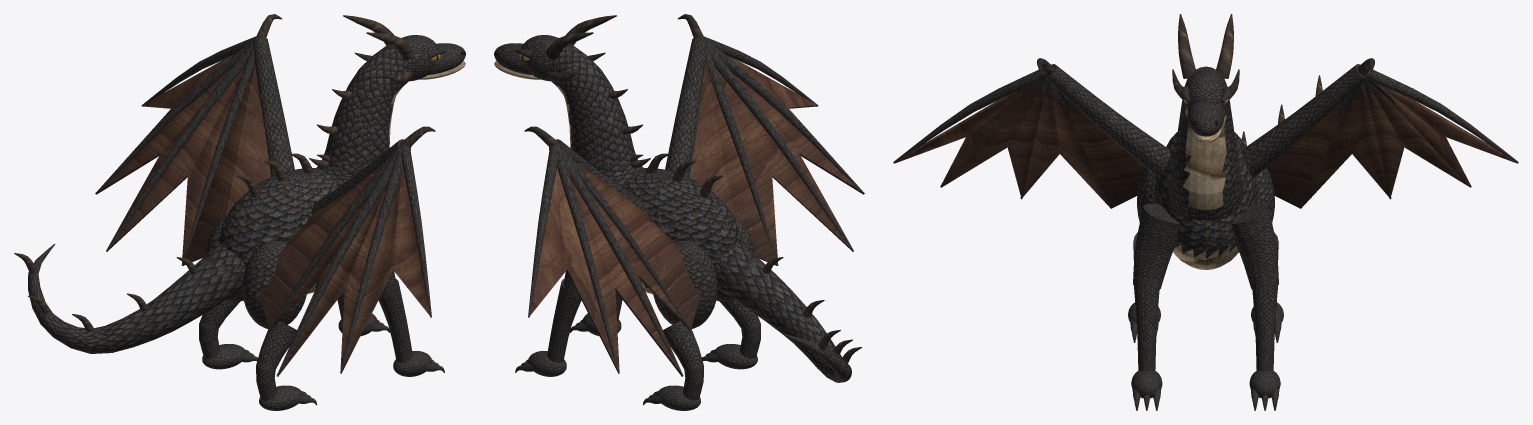
The model's file is peuchen.obj.
The picture shows the model from 3 angles, left to right: view 1: azimuth 30°, elevation 25°; view 2: azimuth 150°, elevation 25°; view 3: azimuth 270°, elevation 25°; orthographic projection. The views are drawn at different scales.
Parts seen in each view (by area): view 1: tail_body_scales, rising_neck_scales, trunk_scales, right_wing_root_web_membrane, right_wing_panel_2_membrane, left_wing_panel_0_membrane, left_wing_root_web_membrane, left_wing_panel_1_membrane, right_wing_arm_scales, right_wing_panel_1_membrane, left_haunch_scales, left_wing_finger_2_scales (+20 smaller); view 2: rising_neck_scales, tail_body_scales, trunk_scales, left_wing_root_web_membrane, left_wing_panel_2_membrane, right_wing_panel_0_membrane, right_wing_root_web_membrane, right_wing_panel_1_membrane, left_wing_arm_scales, left_wing_panel_1_membrane, right_haunch_scales, left_wing_finger_2_scales (+21 smaller); view 3: trunk_scales, rising_neck_scales, left_wing_arm_scales, right_wing_arm_scales, left_wing_panel_2_membrane, right_wing_panel_2_membrane, left_wing_root_web_membrane, right_wing_root_web_membrane, left_wing_panel_1_membrane, right_wing_panel_1_membrane, left_wing_panel_0_membrane, right_wing_panel_0_membrane (+16 smaller).
Part boxes in pixels (x1,y1,x2,y2): tail_body_scales: (28,243,245,353); rising_neck_scales: (316,44,411,187); trunk_scales: (219,168,337,287); right_wing_root_web_membrane: (181,63,270,265); right_wing_panel_2_membrane: (106,67,244,263); left_wing_panel_0_membrane: (340,167,430,372); left_wing_root_web_membrane: (259,162,384,328); left_wing_panel_1_membrane: (277,181,388,375); right_wing_arm_scales: (252,38,294,177); right_wing_panel_1_membrane: (95,70,229,250); left_haunch_scales: (242,240,306,328); left_wing_finger_2_scales: (277,143,400,376); rising_neck_scales: (548,44,643,187); tail_body_scales: (714,243,851,382); trunk_scales: (622,168,740,288); left_wing_root_web_membrane: (689,62,778,265); left_wing_panel_2_membrane: (716,68,853,264); right_wing_panel_0_membrane: (529,167,619,372); right_wing_root_web_membrane: (575,161,700,328); right_wing_panel_1_membrane: (571,180,682,375); left_wing_arm_scales: (665,38,707,177); left_wing_panel_1_membrane: (733,74,864,250); right_haunch_scales: (653,240,717,328); left_wing_finger_2_scales: (703,38,853,251); trunk_scales: (1154,132,1257,258); rising_neck_scales: (1168,66,1243,220); left_wing_arm_scales: (1045,64,1170,177); right_wing_arm_scales: (1241,64,1366,177); left_wing_panel_2_membrane: (1021,85,1110,208); right_wing_panel_2_membrane: (1301,85,1390,208); left_wing_root_web_membrane: (1066,99,1145,208); right_wing_root_web_membrane: (1266,100,1345,208); left_wing_panel_1_membrane: (942,85,1042,198); right_wing_panel_1_membrane: (1369,85,1469,198); left_wing_panel_0_membrane: (894,84,1034,187); right_wing_panel_0_membrane: (1377,84,1517,187).
Size of the model in its own units: 124 by 100 by 154.
4 materials, 4 textured.
